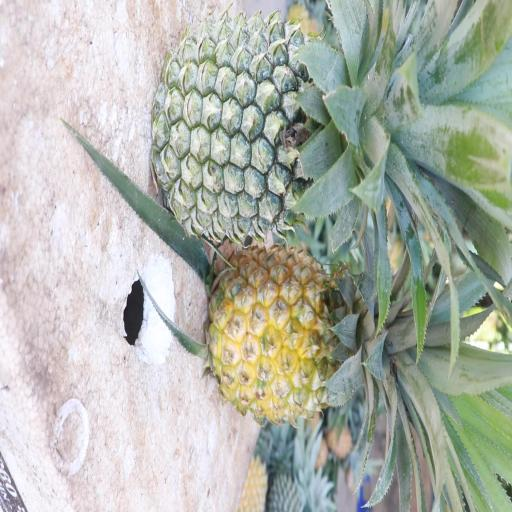Pineapple - v8 v1: (213, 240, 489, 508)
